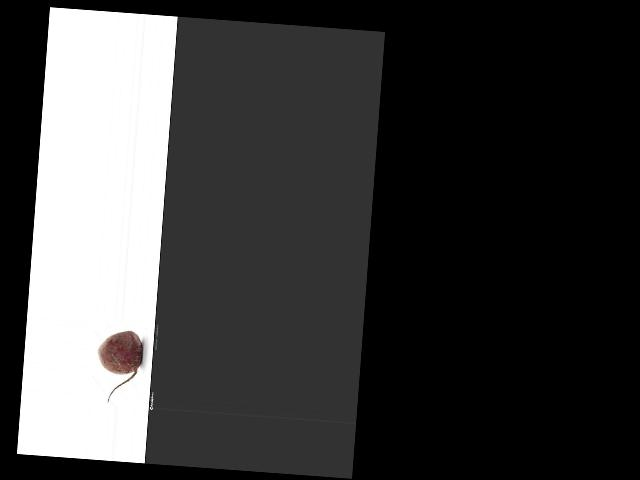beet: (95, 328, 144, 404)
